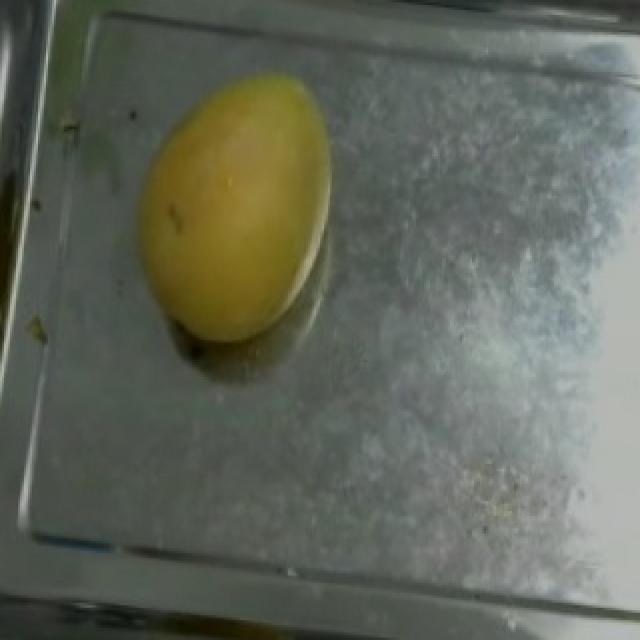fruit: (116, 39, 356, 370)
